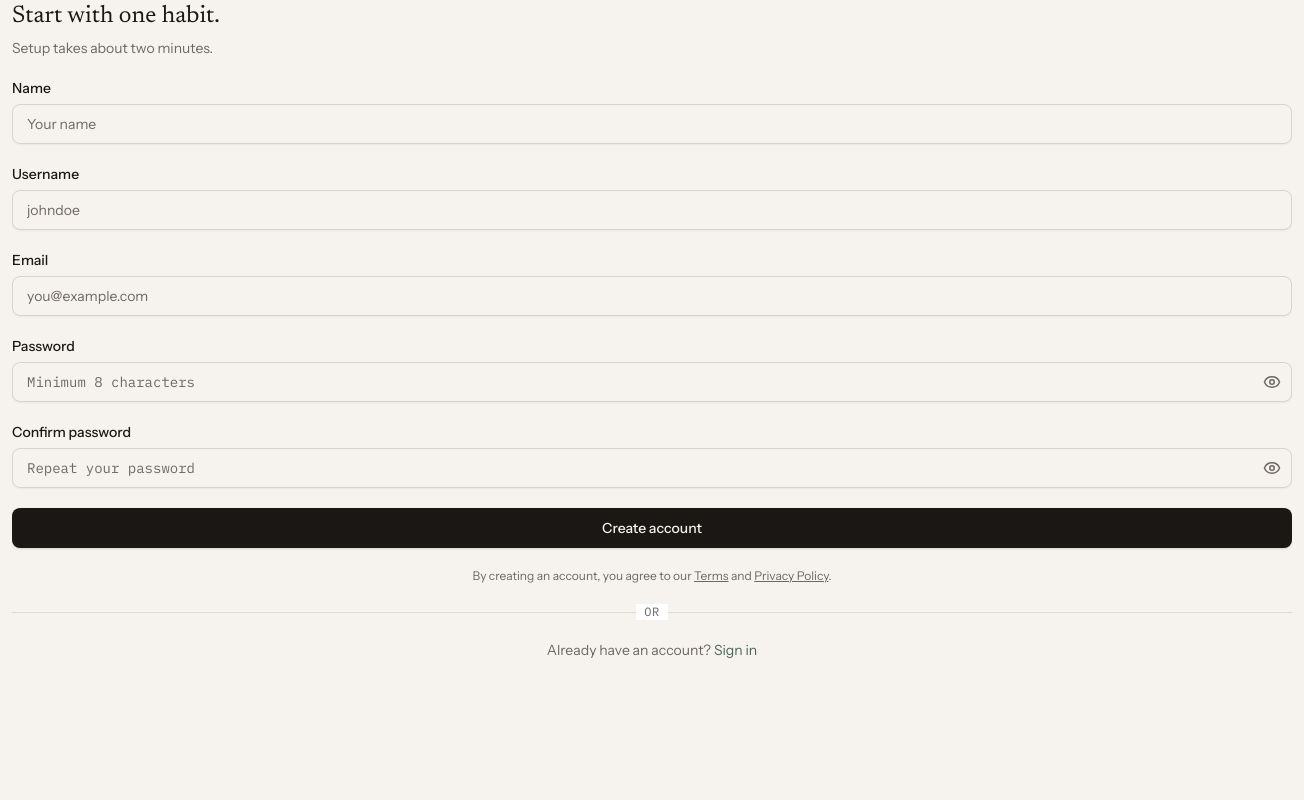
it: RegisterForm › server-side errors › displays a field error from the server
The image size is (1304, 800).
Type "Jane Doe" into the field labelled "Name" at (652, 124), box left=12, top=104, right=1292, bottom=144
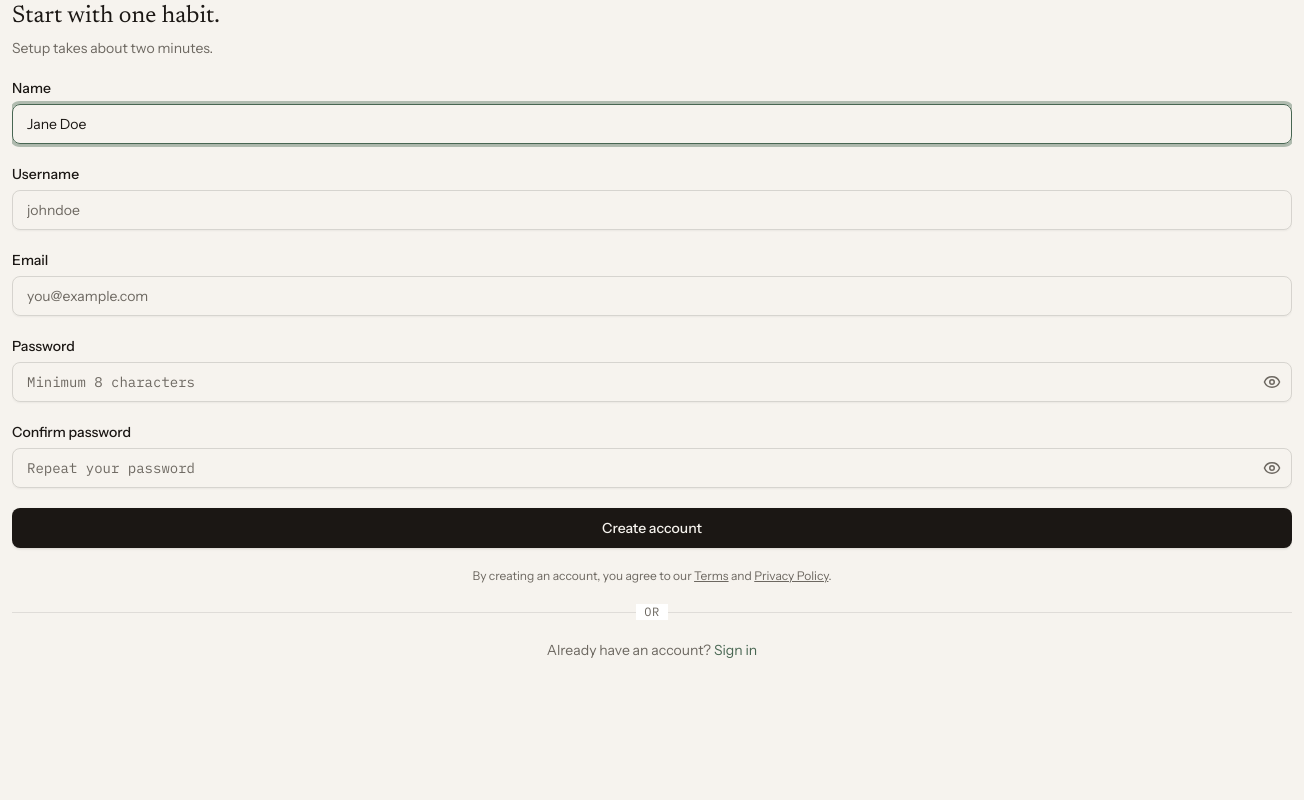
Type "janedoe" into the field labelled "Username" at (652, 210), box left=12, top=190, right=1292, bottom=230
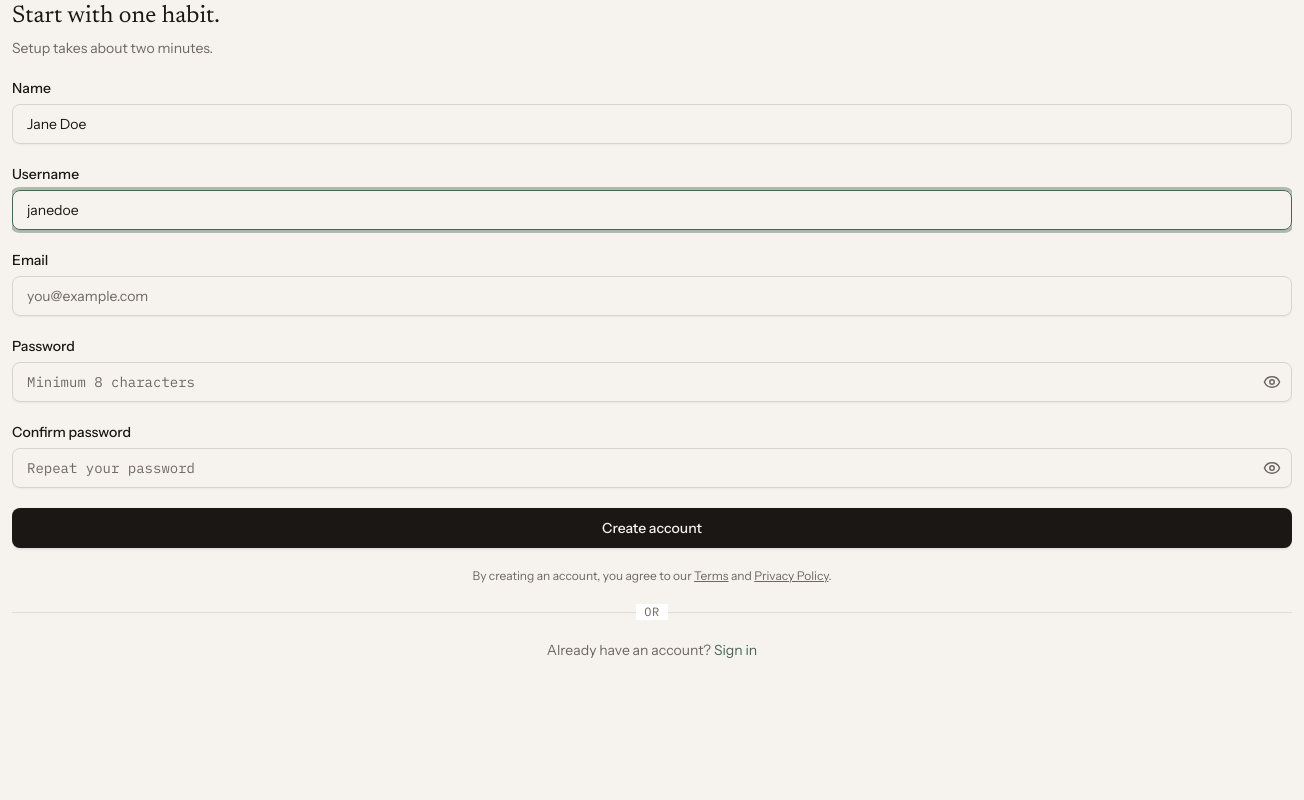
Type "jane@example.com" into the field labelled "Email" at (652, 296), box left=12, top=276, right=1292, bottom=316
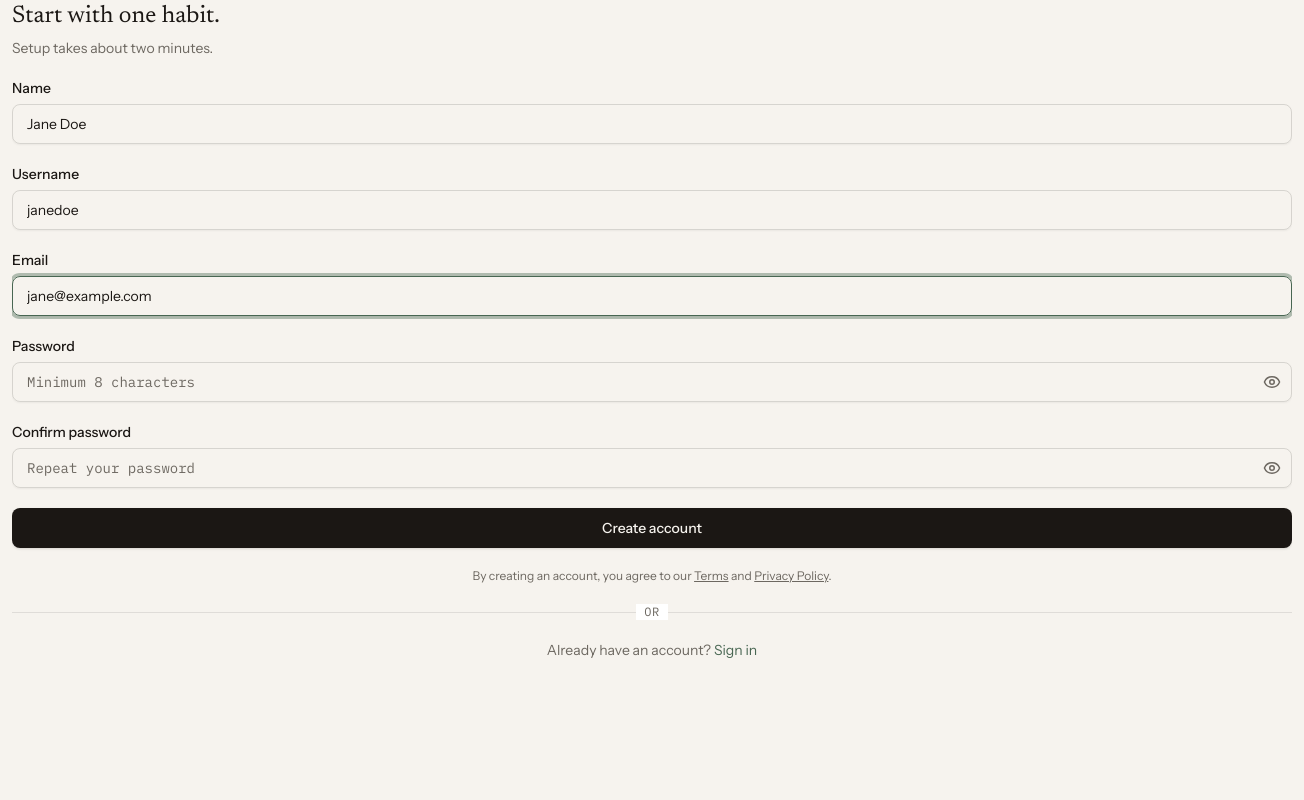
Type "Abcdef1!" into the password field labelled "Password" at (652, 382), box left=12, top=362, right=1292, bottom=402
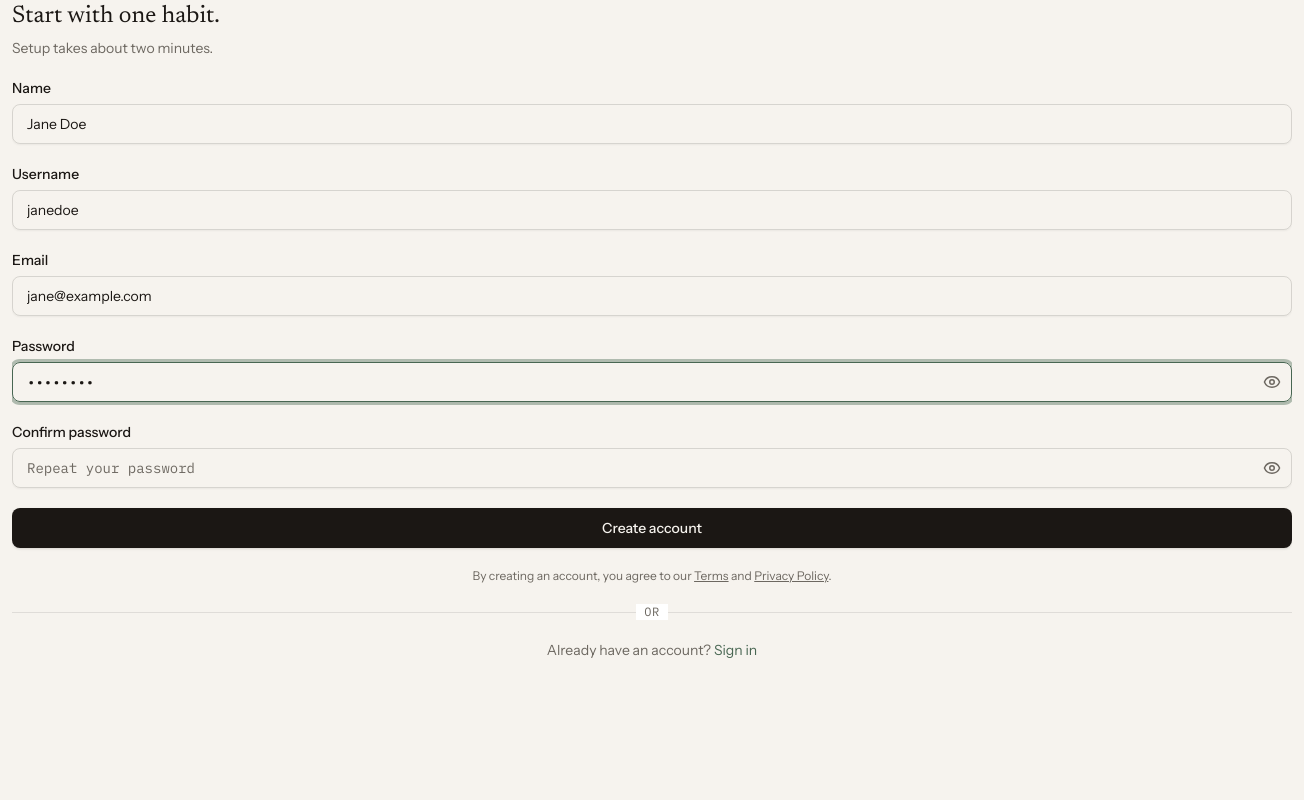
Type "Abcdef1!" into the password field labelled "Confirm password" at (652, 468), box left=12, top=448, right=1292, bottom=488
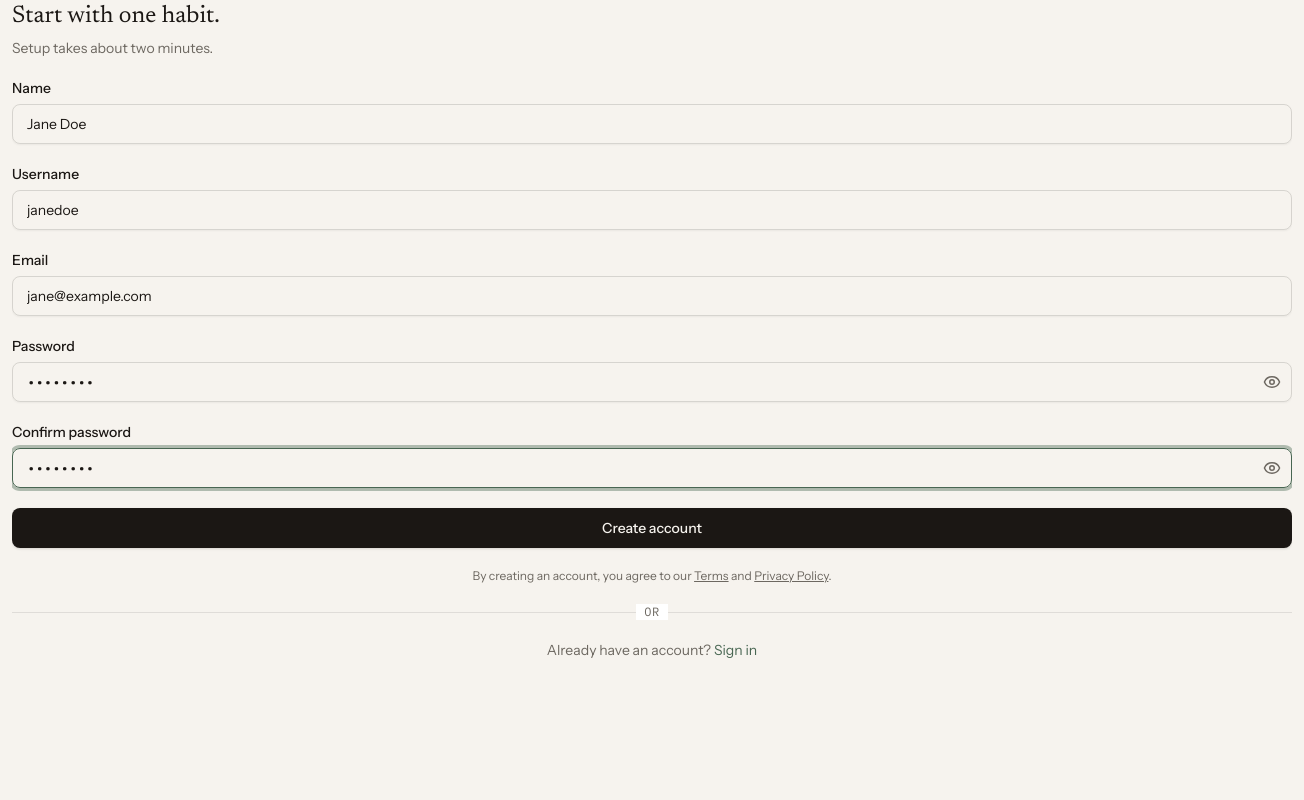
Click the button "Create account" at (652, 528), box left=12, top=508, right=1292, bottom=548
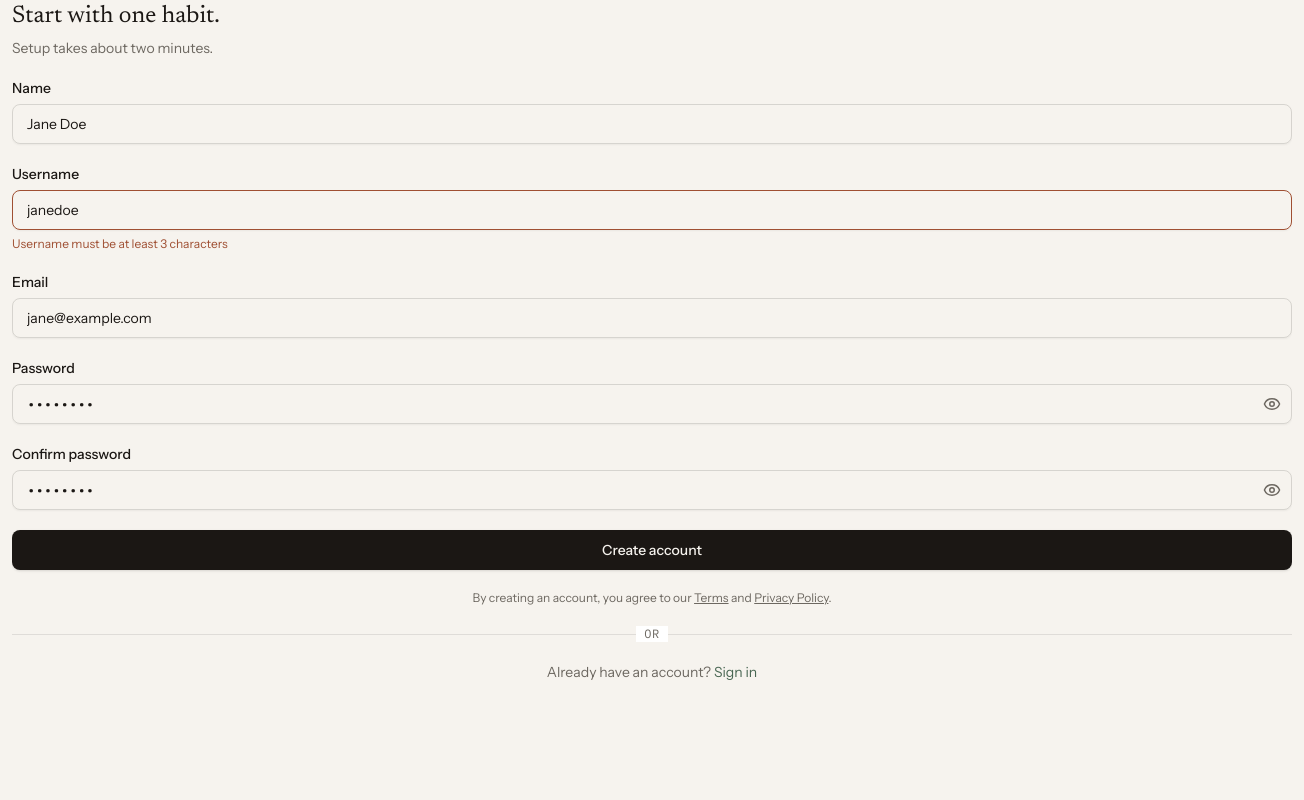
expect the text "Username must be at least 3 characters" is shown: met, box left=12, top=236, right=228, bottom=251
